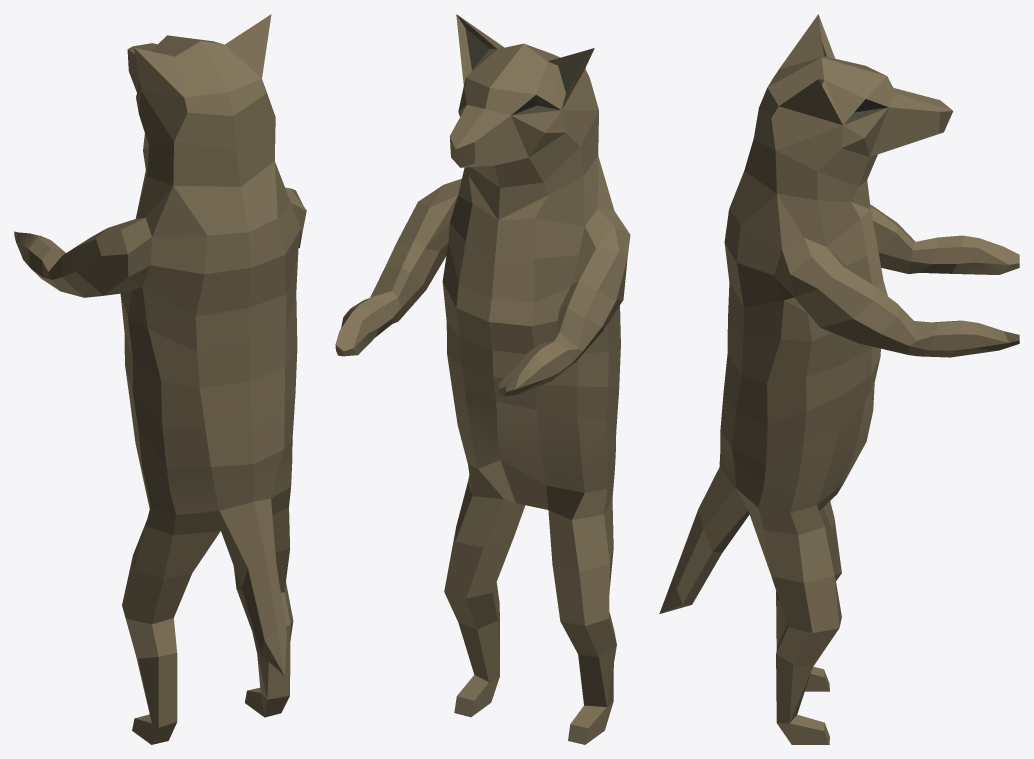
Rendered from Coyote.fbx.
3 views of the same model, side by side, from view 1: azimuth 30°, elevation 25°; view 2: azimuth 150°, elevation 25°; view 3: azimuth 270°, elevation 25° (orthographic). The views are drawn at different scales.
Visible parts, largest first — view 1: pCube9; view 2: pCube9; view 3: pCube9.
Part boxes in pixels (left/top/right/bottom): pCube9: left=14, top=14, right=306, bottom=744; pCube9: left=335, top=14, right=630, bottom=744; pCube9: left=659, top=14, right=1019, bottom=744.
Size of the model in its own units: 2.13 by 6.48 by 3.17.
